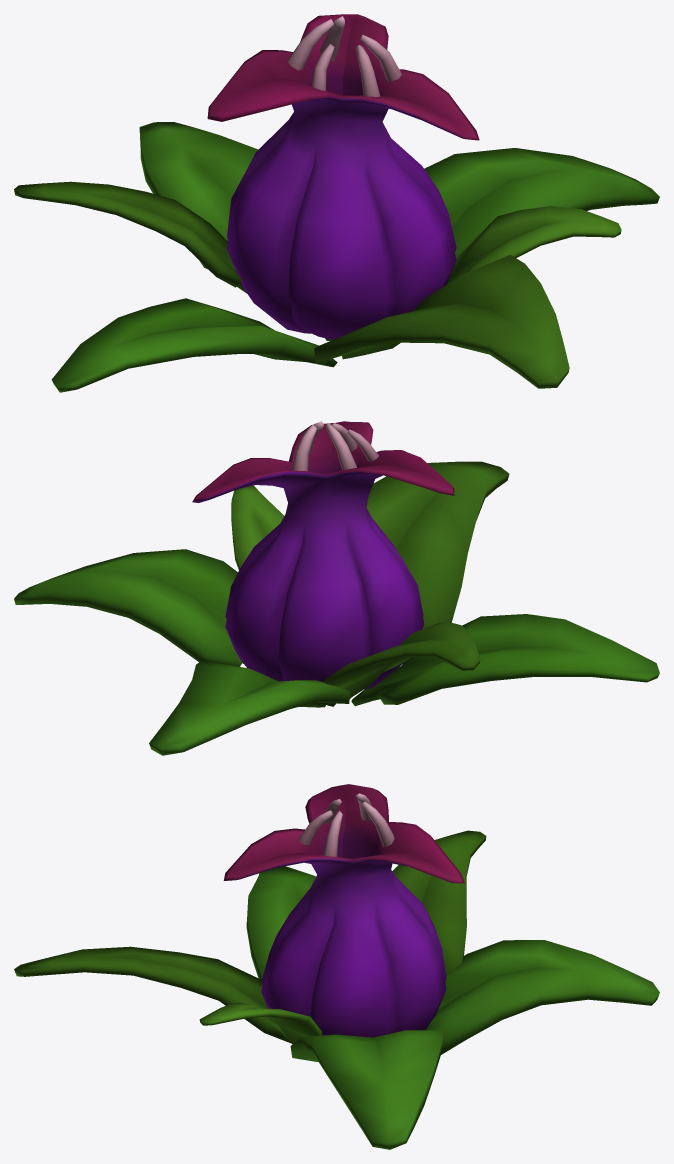
The model's file is Plant_14.fbx.
3 renders of one model, top to bottom at view 1: azimuth 30°, elevation 25°; view 2: azimuth 150°, elevation 25°; view 3: azimuth 270°, elevation 25°, orthographic. The views are drawn at different scales.
Parts seen in each view (by area): view 1: Plant_14; view 2: Plant_14; view 3: Plant_14.
Boxes of the visible parts, bbox=[...] form: Plant_14: bbox=[14, 14, 659, 392]; Plant_14: bbox=[14, 421, 659, 755]; Plant_14: bbox=[14, 784, 659, 1149].
Bounding box in the file's own units: 620 × 298 × 641.
